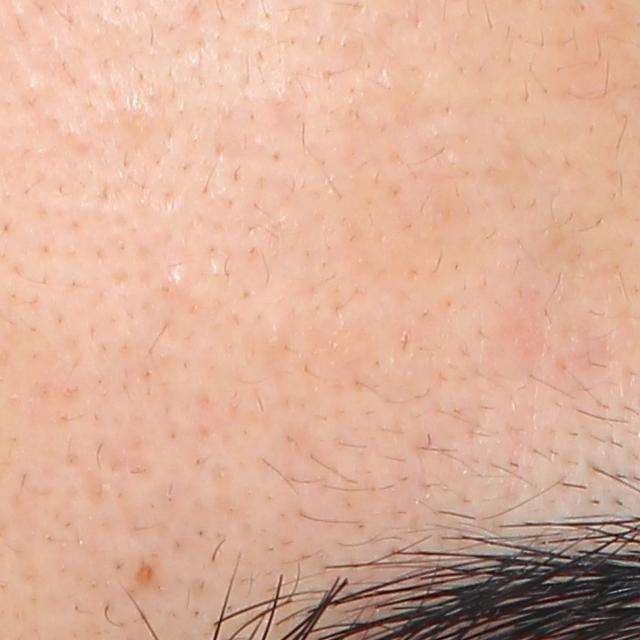comedo: (112, 97, 158, 141), (152, 263, 198, 302), (265, 85, 296, 116)
